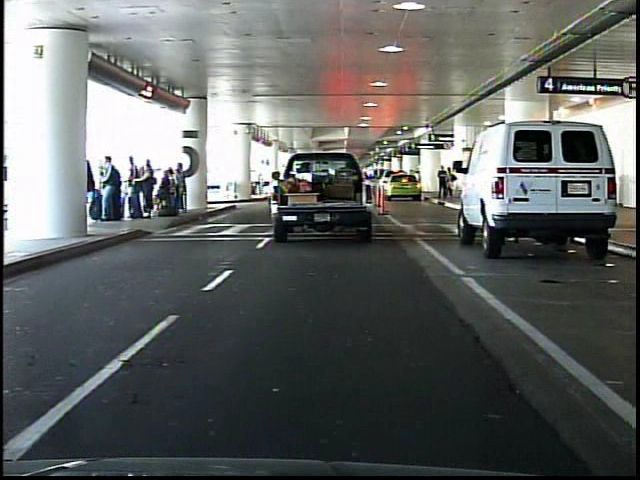person: (436, 164, 449, 201), (446, 165, 458, 203)
